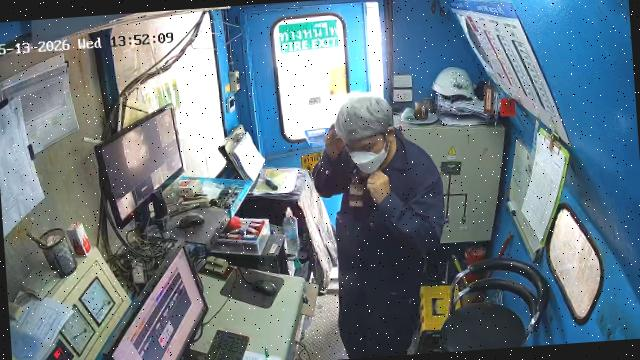Head: (336, 94, 395, 173)
People: (314, 95, 445, 358)
